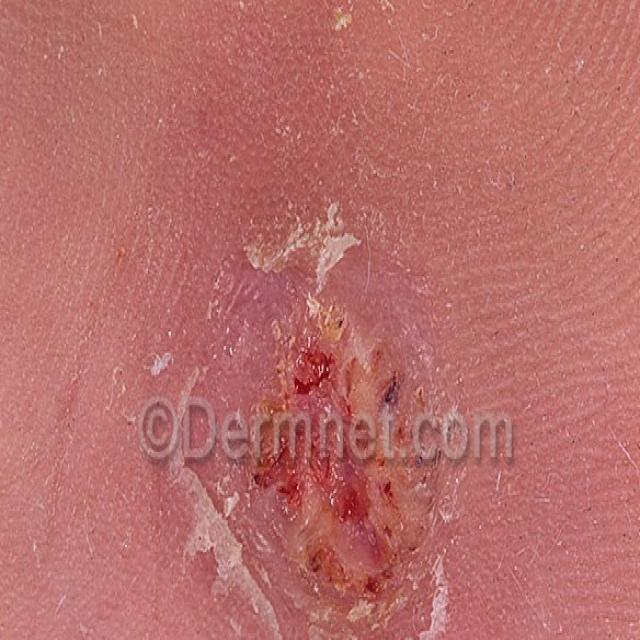Warts: (135, 190, 500, 640)
